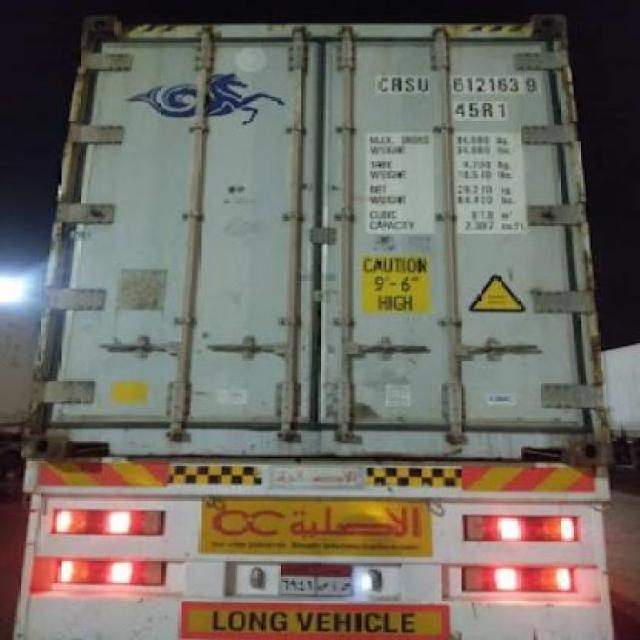ISO: (455, 100, 507, 119)
container_number: (381, 76, 544, 94)
